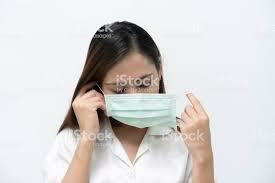Wore Mask Incorrectly: (87, 36, 192, 137)
